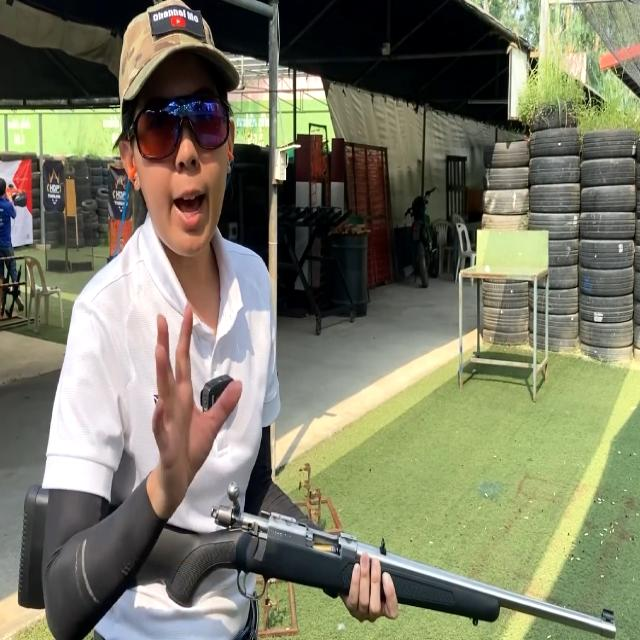rifle: (14, 475, 618, 640)
